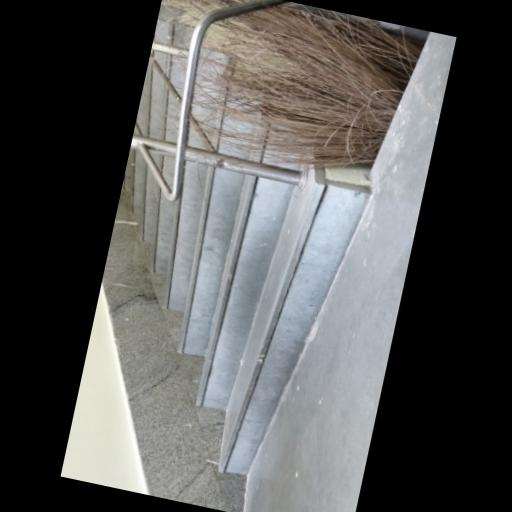stairs: (123, 149, 369, 472)
